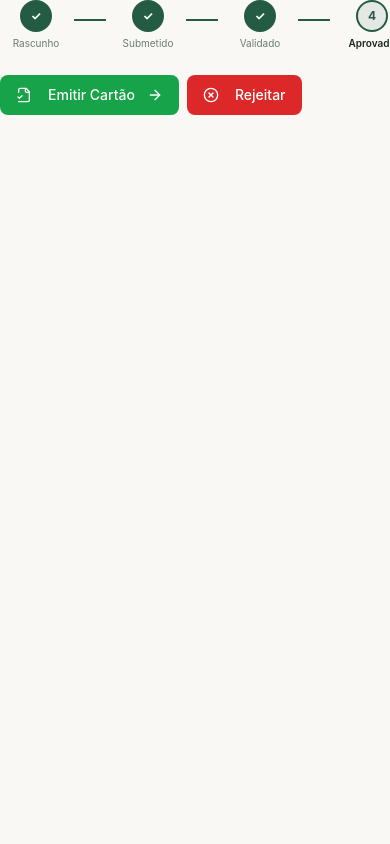
it: WorkflowActions — E2E DOM: transição approved → issued/active › Diálogo de confirmação — bloco explicativo › rejeição no passo approved NÃO mostra bloco explicativo final
The width and height of the screenshot is (390, 844).
Click the button "Rejeitar" at (244, 95), box x1=187 y1=75 x2=302 y2=115
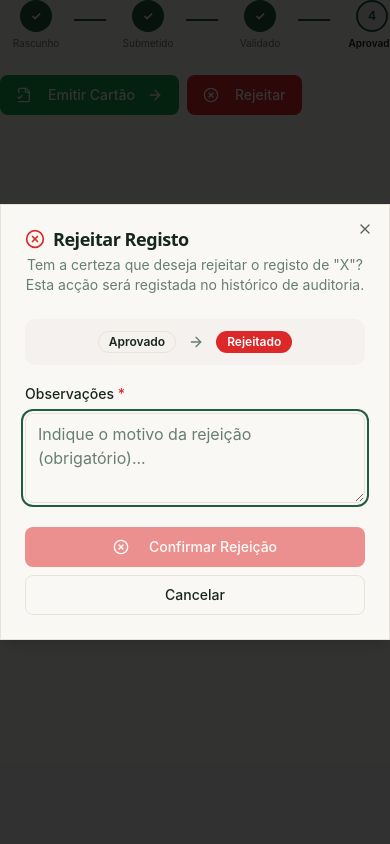
expect the heading "Rejeitar Registo" is shown: met, box x1=25 y1=227 x2=189 y2=251
